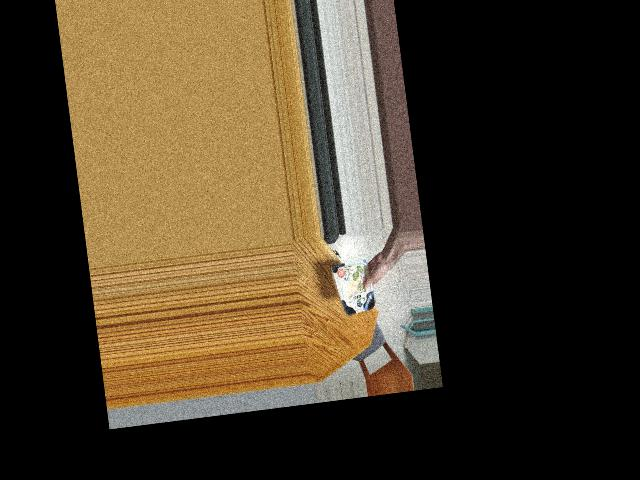cheese: (331, 257, 382, 316)
